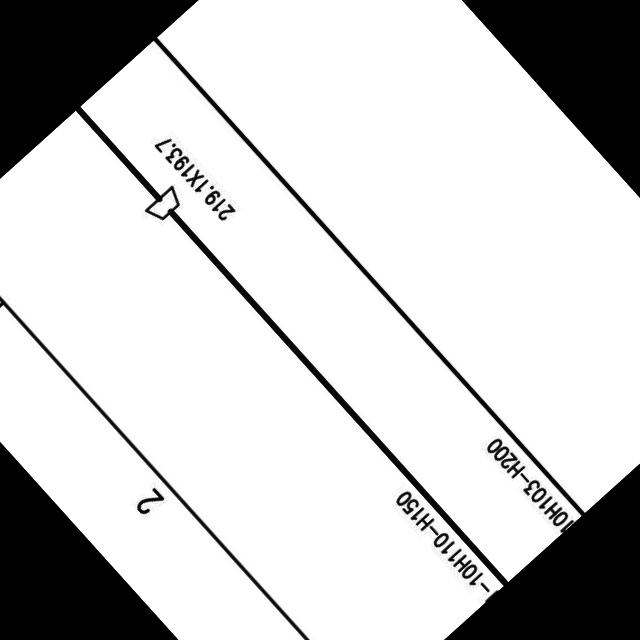SP: (136, 182, 188, 233)
